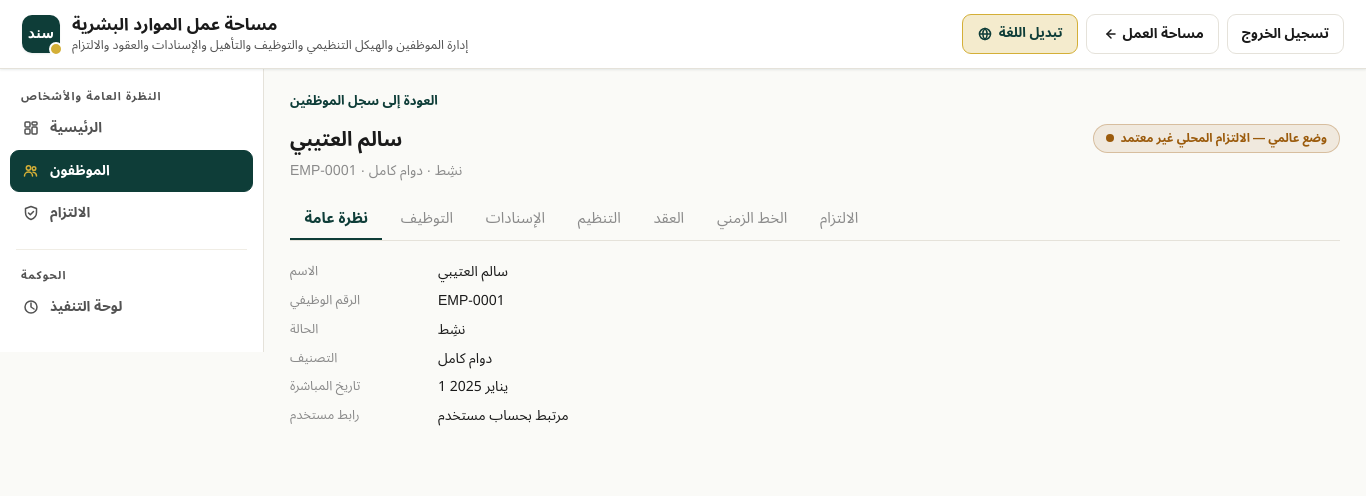
Employee 360 — lifecycle actions › offers status-appropriate commands and labels termination as إنهاء خدمة, never حذف
Expected: the heading "سالم العتيبي" is shown, [290, 119, 402, 161]
Click the tab "التوظيف": (427, 219) [386, 198, 468, 240]
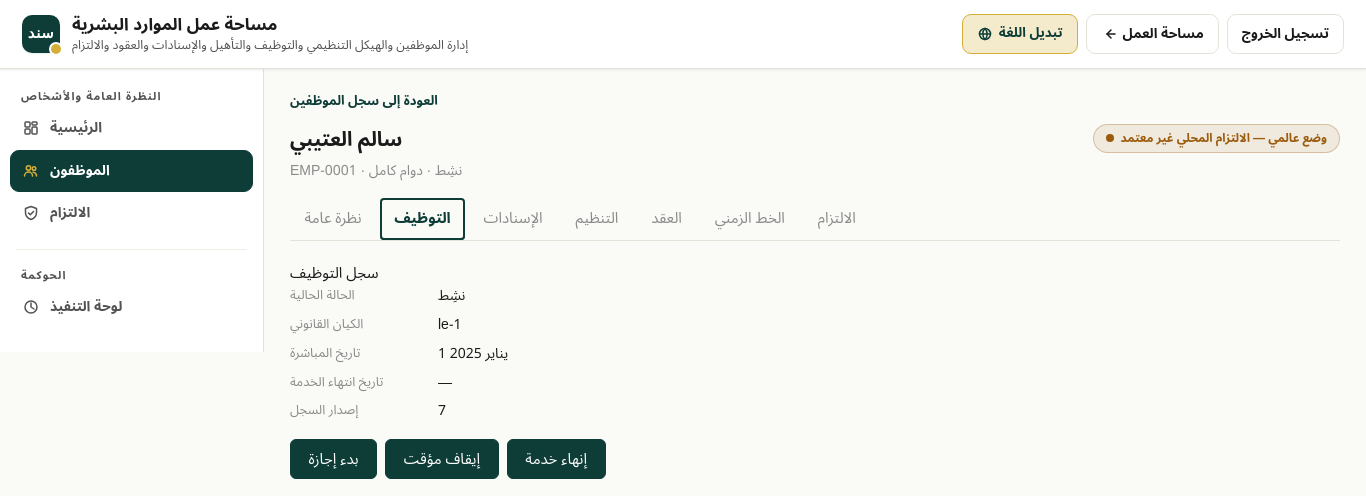
Now the button "بدء إجازة" is shown, box [290, 439, 377, 479]
Now the button "إيقاف مؤقت" is shown, box [385, 439, 499, 479]
Now the button "إنهاء خدمة" is shown, box [507, 439, 606, 479]
